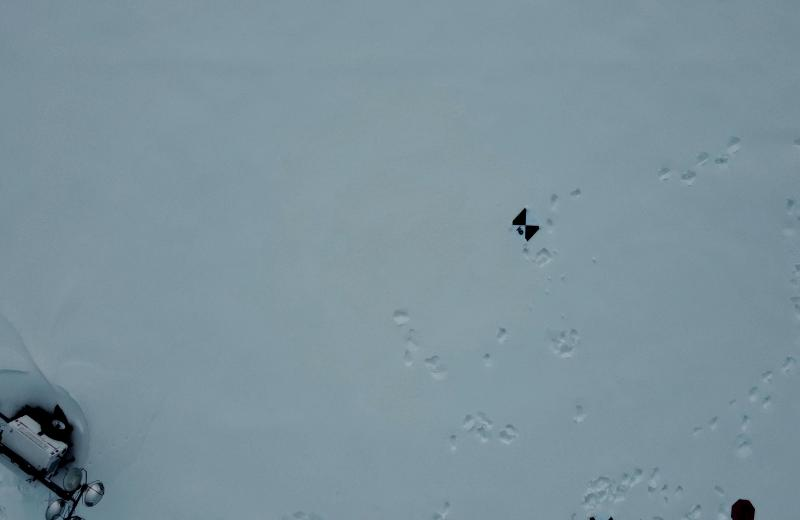Octagon: (728, 495, 756, 520)
